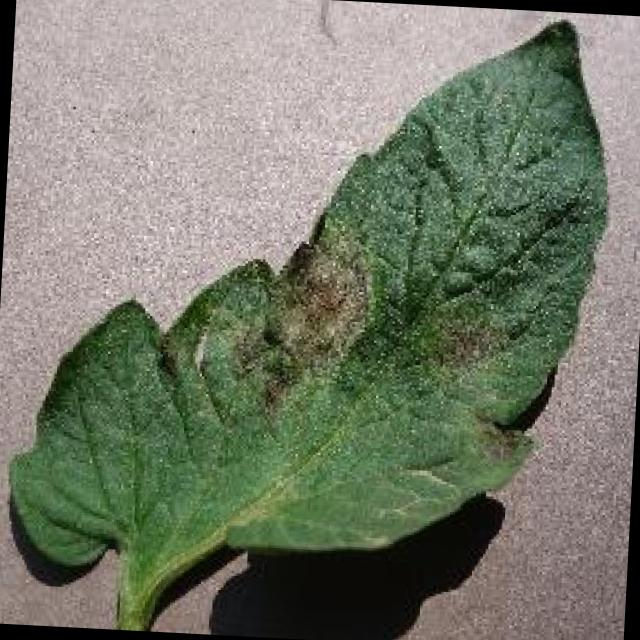Tomato_Late_Blight: (236, 190, 549, 491)
